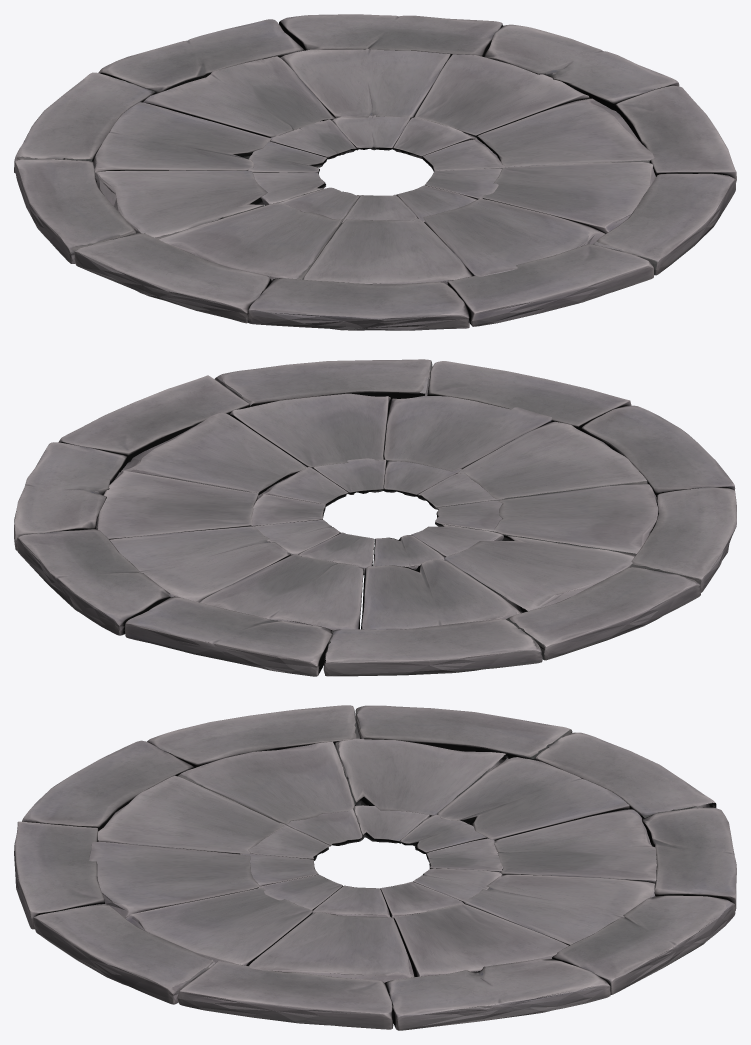
File: Stone round.fbx
3 views of the same model, one above another, from view 1: azimuth 30°, elevation 25°; view 2: azimuth 150°, elevation 25°; view 3: azimuth 270°, elevation 25° (orthographic).
Visible parts, largest first — view 1: Object.001; view 2: Object.001; view 3: Object.001.
Boxes of the visible parts, <box> form: Object.001: <box>14,14,736,330</box>; Object.001: <box>14,359,736,676</box>; Object.001: <box>14,705,736,1030</box>.
Size of the model in its own units: 286 by 7.11 by 280.
